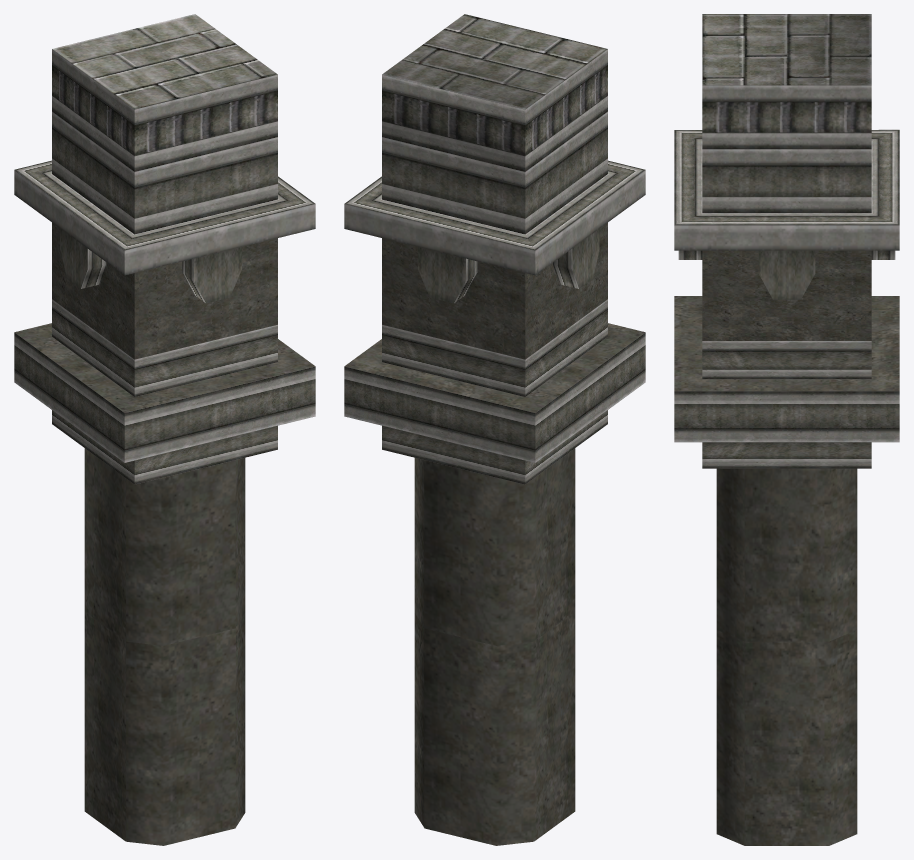
File: L_MOUNTAIN_HALL_COLUMN.fbx
3 views of the same model, side by side, from view 1: azimuth 30°, elevation 25°; view 2: azimuth 150°, elevation 25°; view 3: azimuth 270°, elevation 25° (orthographic). The views are drawn at different scales.
Parts seen in each view (by area): view 1: L_MOUNTAIN_HALL_COLUMN; view 2: L_MOUNTAIN_HALL_COLUMN; view 3: L_MOUNTAIN_HALL_COLUMN.
Boxes of the visible parts, box(x1,y1,x2,y2) form: L_MOUNTAIN_HALL_COLUMN: box(14, 14, 315, 845); L_MOUNTAIN_HALL_COLUMN: box(344, 14, 645, 845); L_MOUNTAIN_HALL_COLUMN: box(674, 14, 899, 845).
Size of the model in its own units: 16000 by 60000 by 15999.
Materials: 5 (5 with a texture image).
